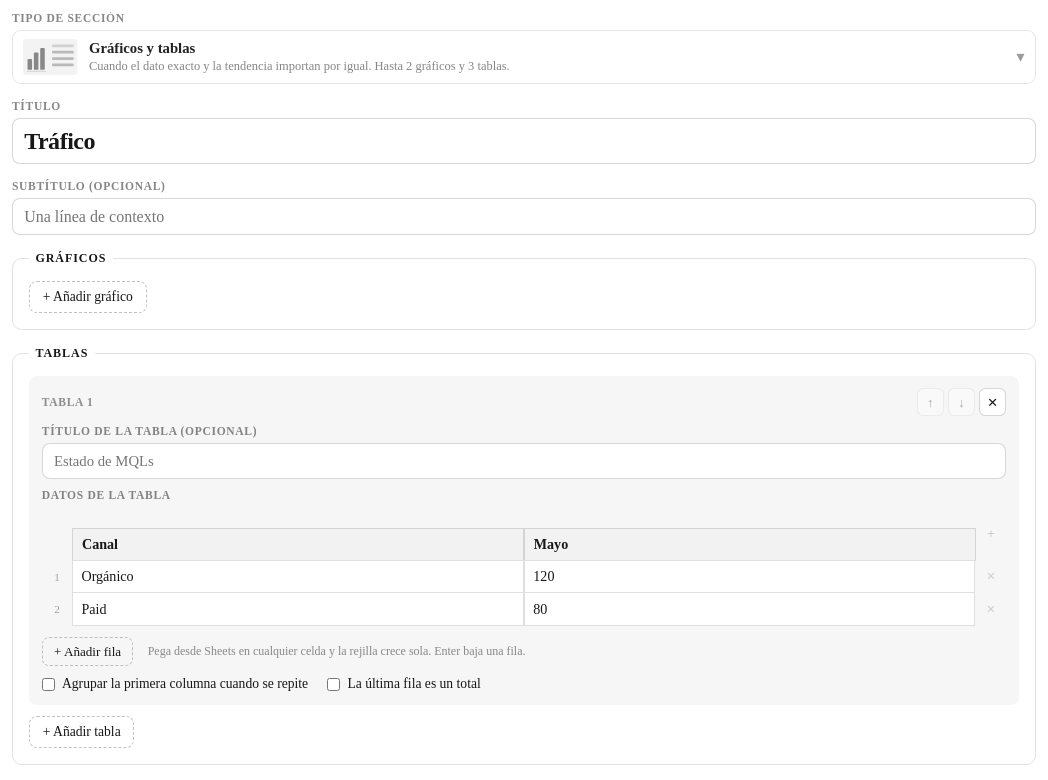
deshacer lo que se quitó › quitar una fila de una tabla ofrece deshacerlo
Expected: the button "Deshacer" is not shown
Click the button named "Quitar la fila 2".
click(991, 609)  # box [980,598,1002,620]
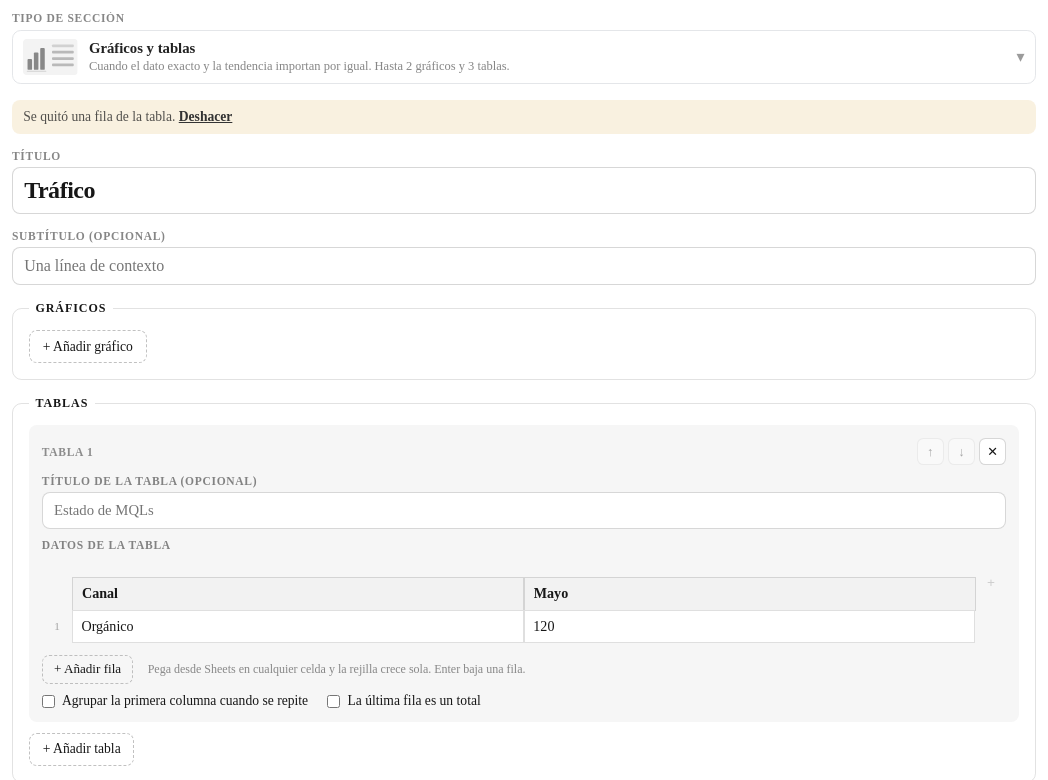
Now the button "Deshacer" is shown, box [179,109,232,125]
Now the text "Se quitó una fila de la tabla. Deshacer" is shown, box [12,100,1036,134]
